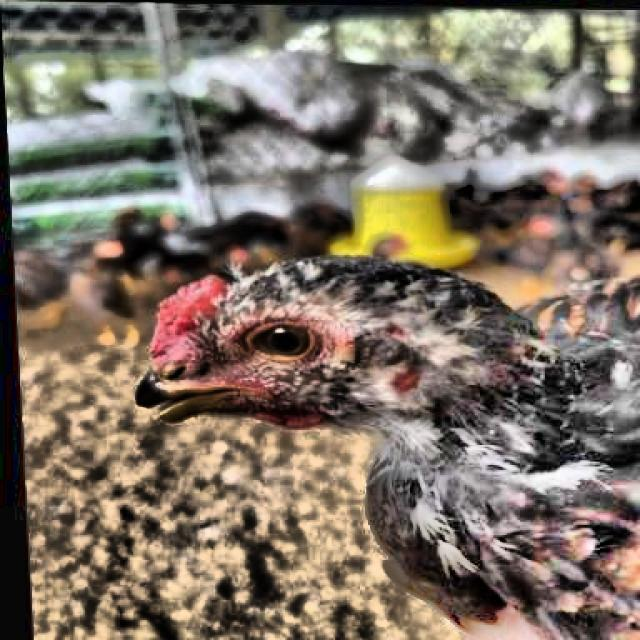Healthy: (213, 310, 342, 382)
